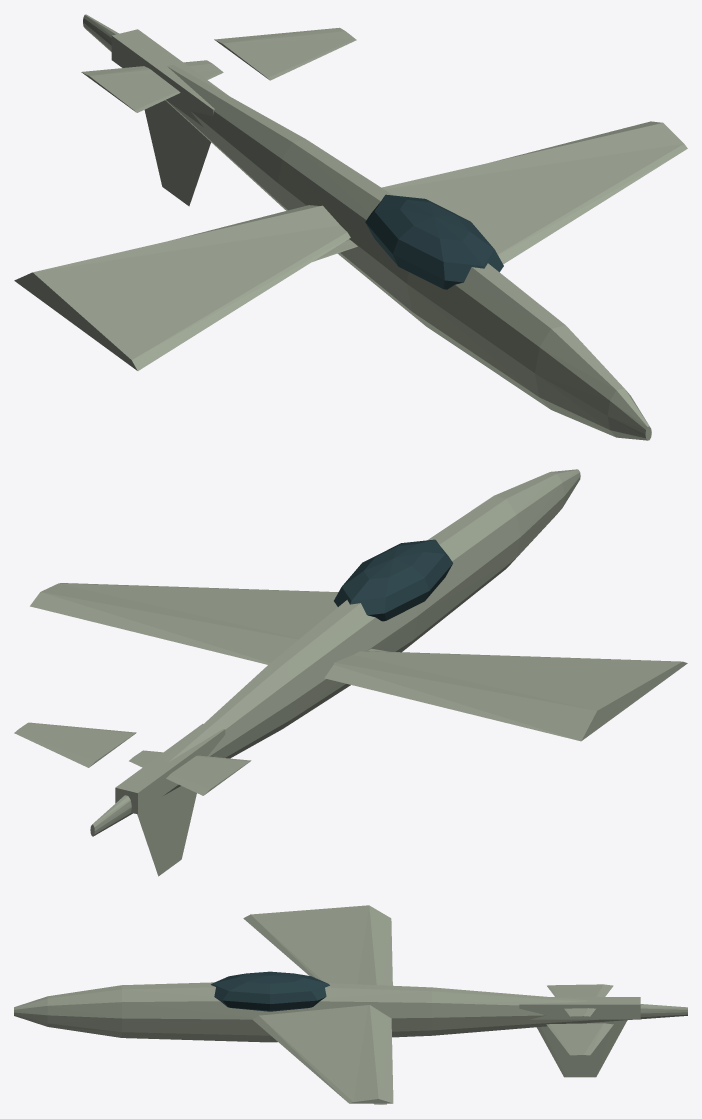
3 renders of one model, top to bottom at view 1: azimuth 30°, elevation 25°; view 2: azimuth 150°, elevation 25°; view 3: azimuth 270°, elevation 25°, orthographic. The views are drawn at different scales.
Visible parts, largest first — view 1: Fuselage, Wing_L, Wing_R, Cockpit, Rudder, Elevator_R, TailBoom, Elevator_L; view 2: Fuselage, Wing_L, Wing_R, Cockpit, Rudder, Elevator_R, TailBoom, Elevator_L; view 3: Fuselage, Wing_R, Wing_L, Cockpit, TailBoom, Rudder, Elevator_R, Elevator_L.
Boxes of the visible parts, <box> form: Fuselage: <box>83,14,651,440</box>; Wing_L: <box>14,205,350,370</box>; Wing_R: <box>382,121,687,264</box>; Cockpit: <box>365,194,503,289</box>; Rudder: <box>144,100,210,206</box>; Elevator_R: <box>214,27,356,80</box>; TailBoom: <box>111,29,228,127</box>; Elevator_L: <box>81,60,223,112</box>; Fuselage: <box>90,469,580,836</box>; Wing_L: <box>324,651,687,741</box>; Wing_R: <box>30,583,338,664</box>; Cockpit: <box>334,539,452,621</box>; Rudder: <box>137,786,196,876</box>; Elevator_R: <box>14,722,136,767</box>; TailBoom: <box>115,724,225,814</box>; Elevator_L: <box>129,750,251,795</box>; Fuselage: <box>14,982,687,1042</box>; Wing_R: <box>252,1005,393,1103</box>; Wing_L: <box>243,905,392,985</box>; Cockpit: <box>211,971,329,1011</box>; TailBoom: <box>519,997,640,1019</box>; Rudder: <box>537,1020,627,1077</box>; Elevator_R: <box>546,1023,613,1055</box>; Elevator_L: <box>547,984,613,1016</box>.
Size of the model in its own units: 14.4 by 3.66 by 22.
